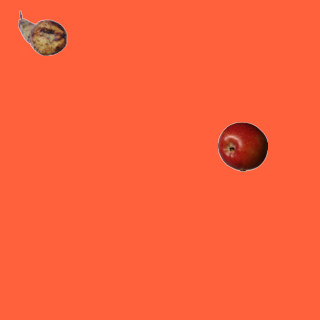Apple Braeburn: (217, 121, 267, 171)
Pear Abate: (17, 8, 67, 58)
